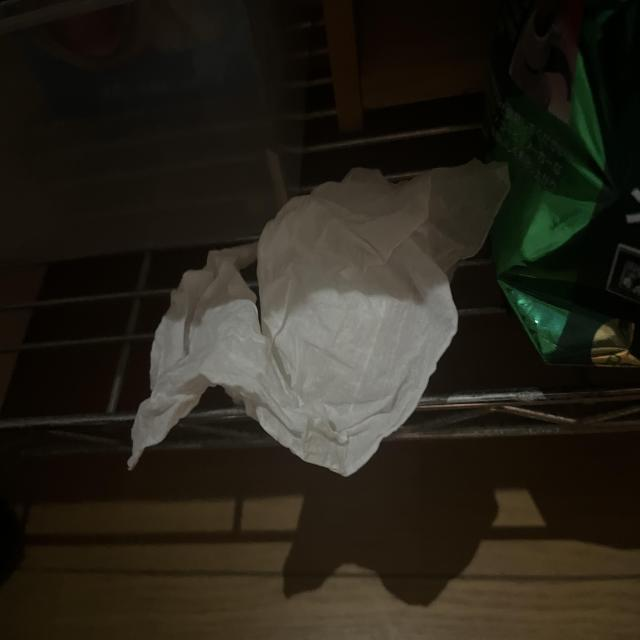Paper: (128, 174, 510, 474)
